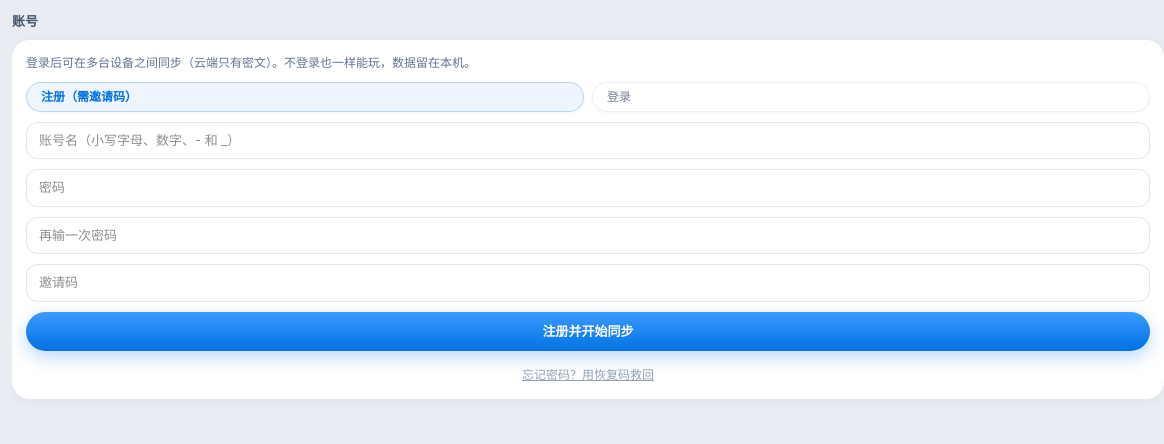
Test: AccountSection › 密码太短或两次不一致时给本地提示，不呼叫服务器
Type "alice" into the field with placeholder "账号名（小写字母、数字、- 和 _）" at (588, 140), box [26,122,1150,159]
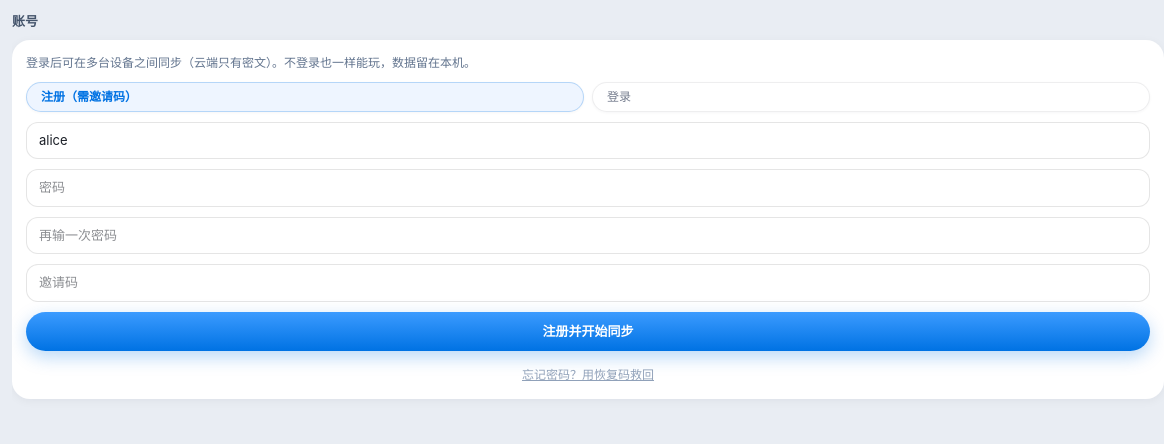
Type "123" into the password field with placeholder "密码" at (588, 188), box [26,169,1150,206]
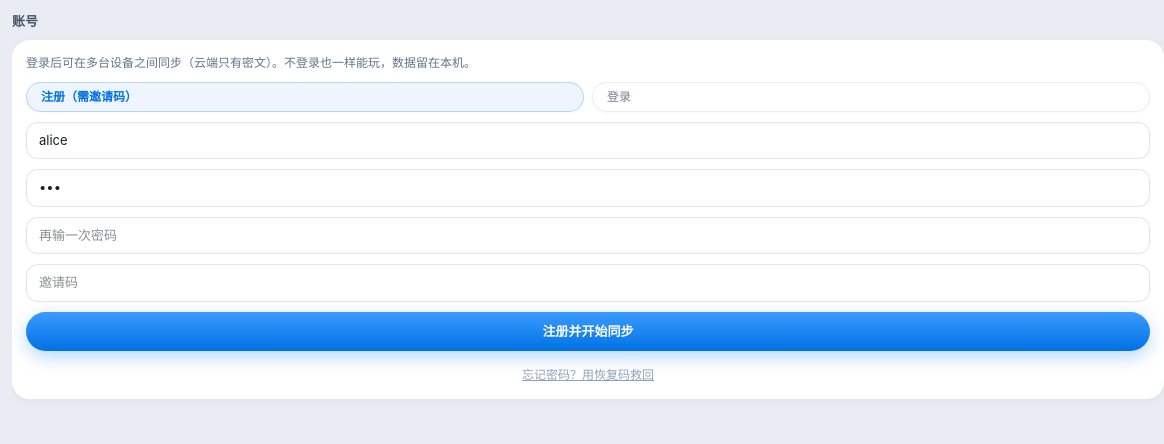
Type "123" into the password field with placeholder "再输一次密码" at (588, 235), box [26,216,1150,254]
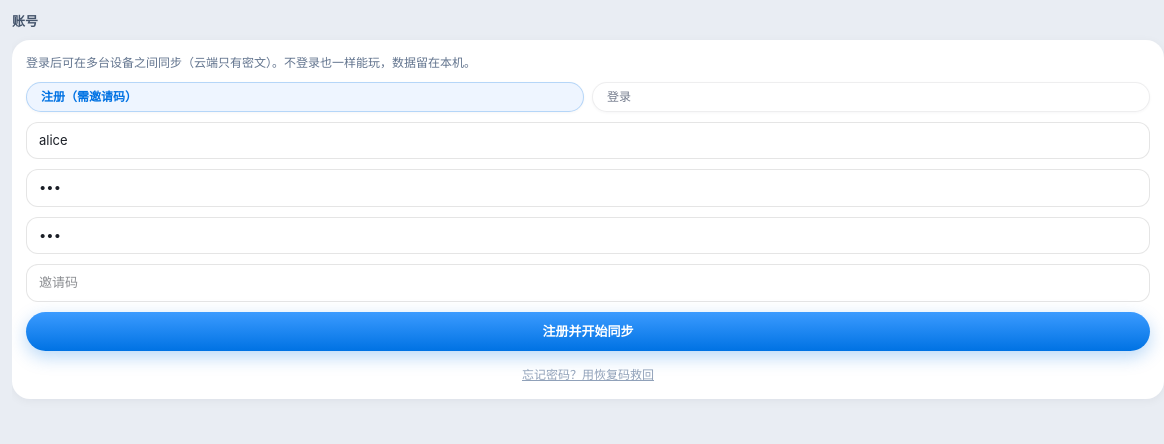
Click the button "注册并开始同步" at (588, 331), box [26,312,1150,351]
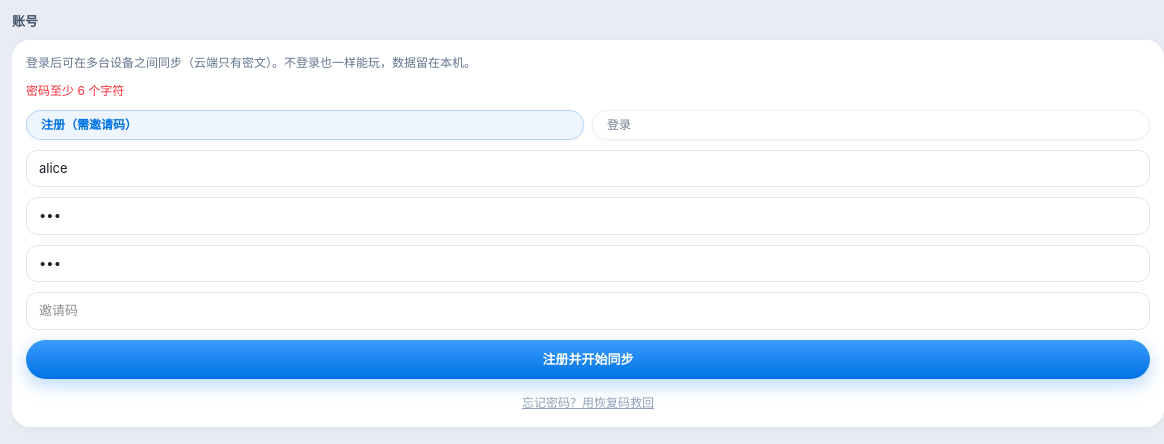
Expected: the text "密码至少 6 个字符" is shown, [26,82,124,98]
